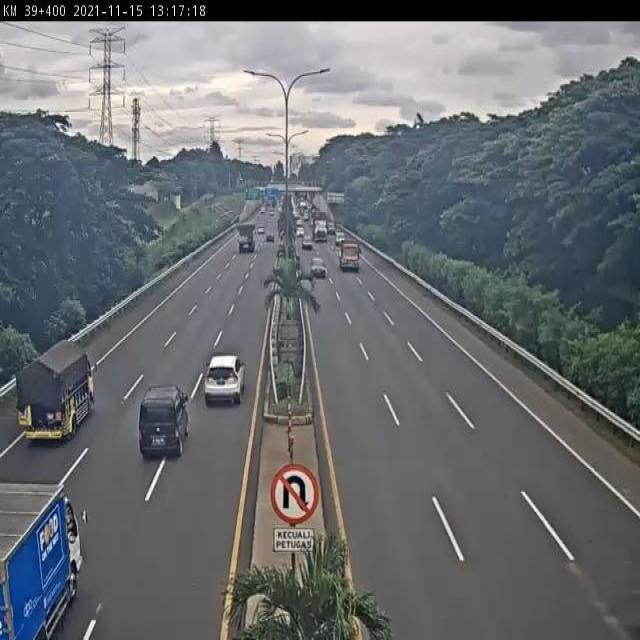ARABA: (137, 380, 192, 459), (202, 351, 248, 405), (308, 255, 328, 282)
KAMYONET: (16, 341, 95, 447)
TIR: (337, 240, 361, 272)
